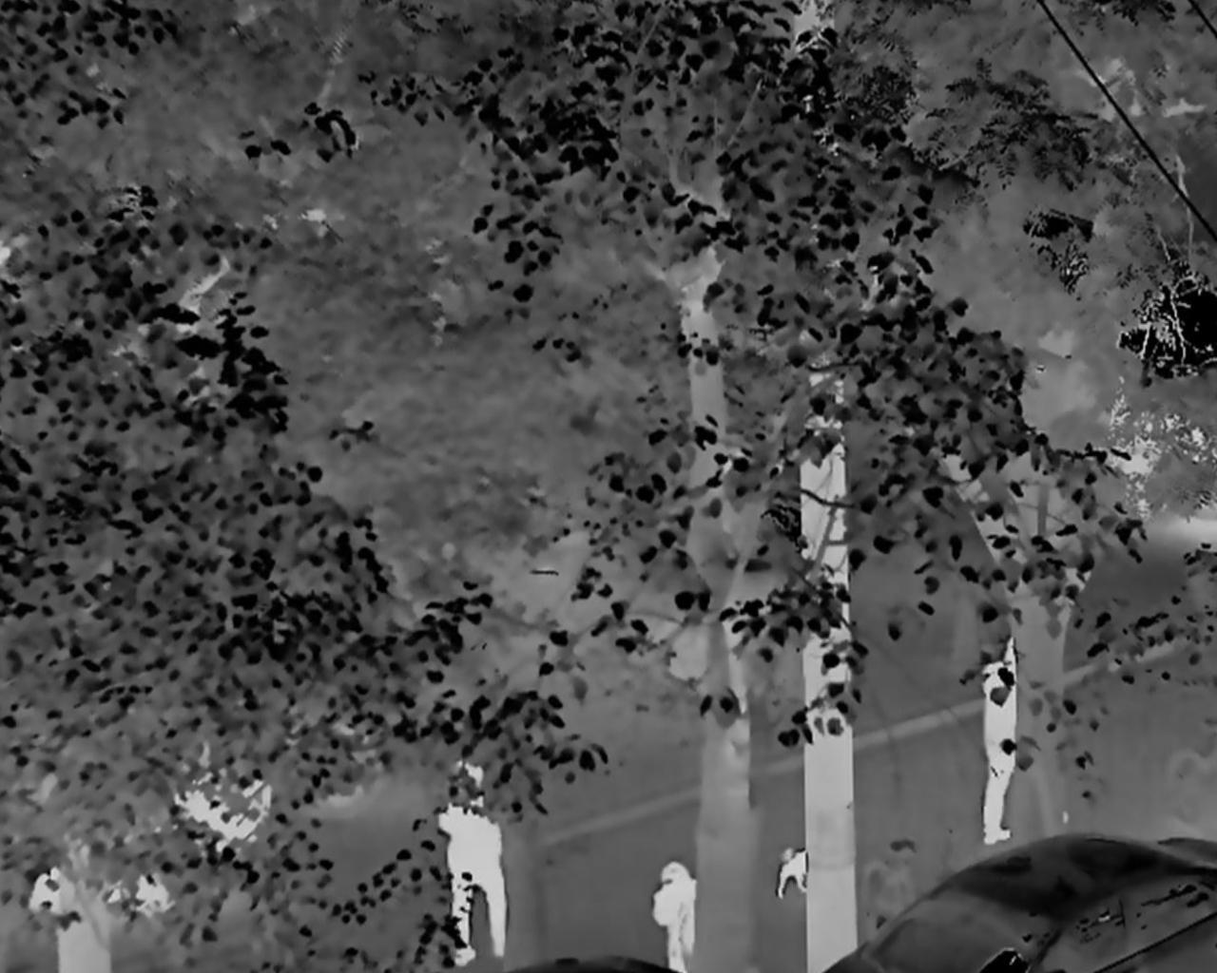person: (436, 756, 515, 960), (979, 629, 1027, 851), (652, 860, 711, 973)
